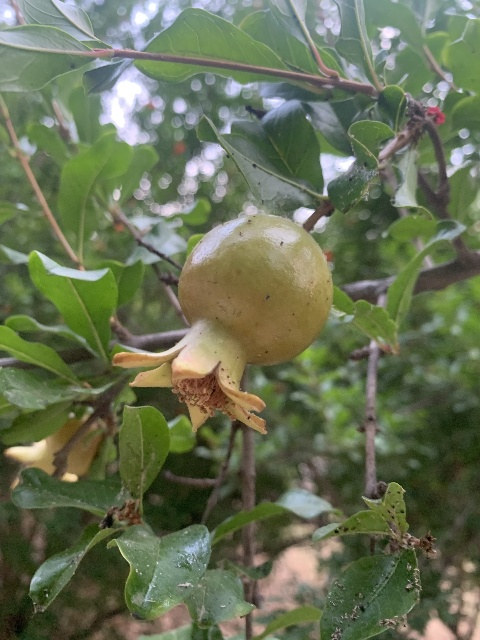mid-growth: (112, 213, 333, 436)
